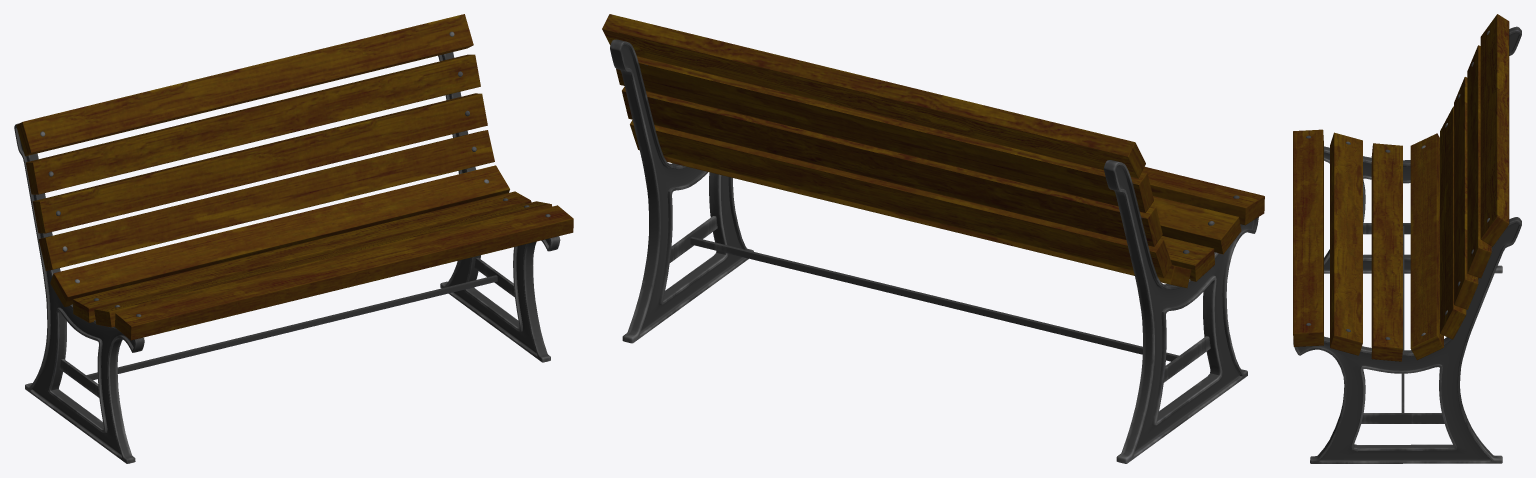
The model's file is bench_2.fbx.
The picture shows the model from 3 angles, left to right: view 1: azimuth 30°, elevation 25°; view 2: azimuth 150°, elevation 25°; view 3: azimuth 270°, elevation 25°; orthographic projection. The views are drawn at different scales.
Visible parts, largest first — view 1: bench_2; view 2: bench_2; view 3: bench_2.
Part boxes in pixels (x1,y1,x2,y2): bench_2: (14, 14, 573, 463); bench_2: (602, 14, 1264, 463); bench_2: (1293, 14, 1521, 463).
Bounding box in the file's own units: 175 × 102 × 83.22.
Materials: 1 (1 with a texture image).
